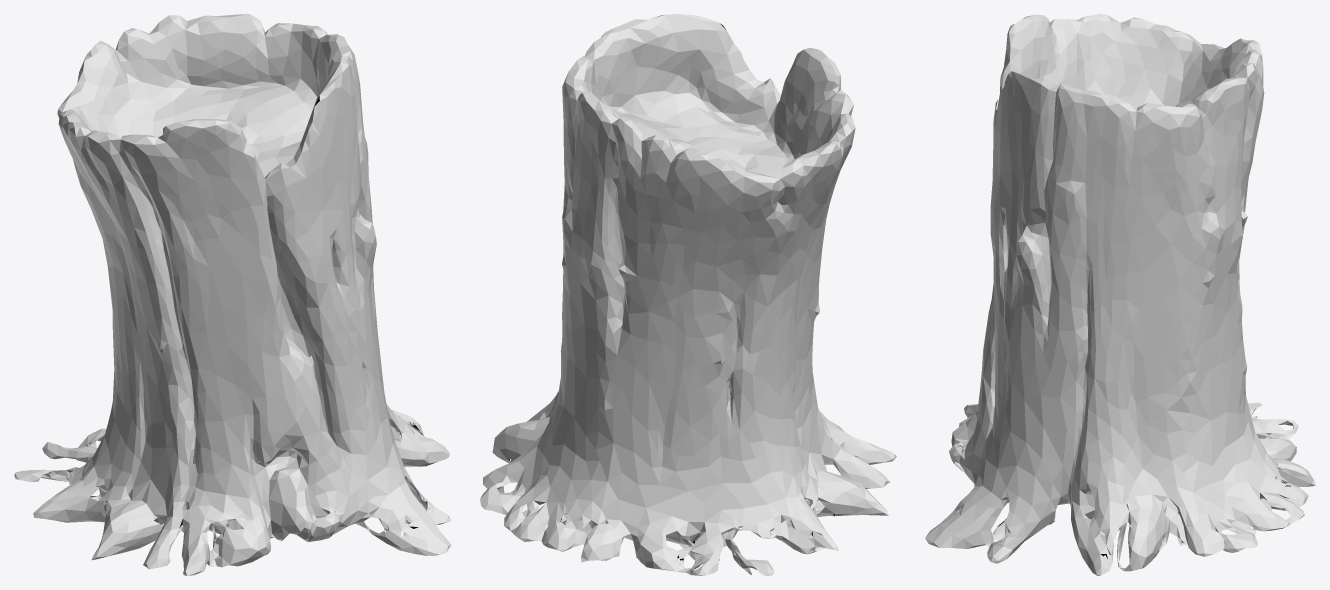
The model's file is log_rotten_r2.glb.
The picture shows the model from 3 angles, left to right: view 1: azimuth 30°, elevation 25°; view 2: azimuth 150°, elevation 25°; view 3: azimuth 270°, elevation 25°; orthographic projection. The views are drawn at different scales.
Parts seen in each view (by area): view 1: Low; view 2: Low; view 3: Low.
Part boxes in pixels (x1,y1,x2,y2): Low: [14, 14, 451, 575]; Low: [480, 14, 896, 575]; Low: [925, 14, 1315, 575].
Size of the model in its own units: 1.69 by 1.95 by 1.55.
1 material, 1 textured.
